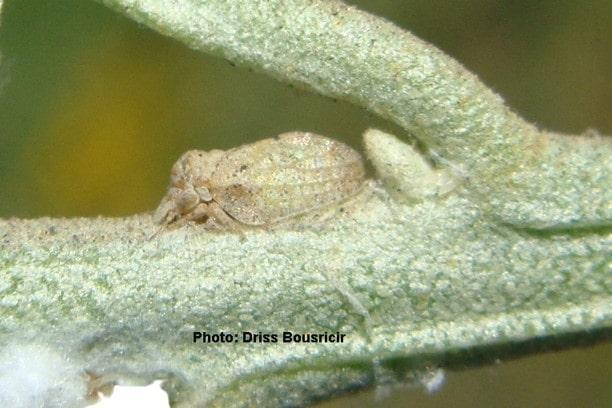Psyllid: (152, 110, 417, 244)
